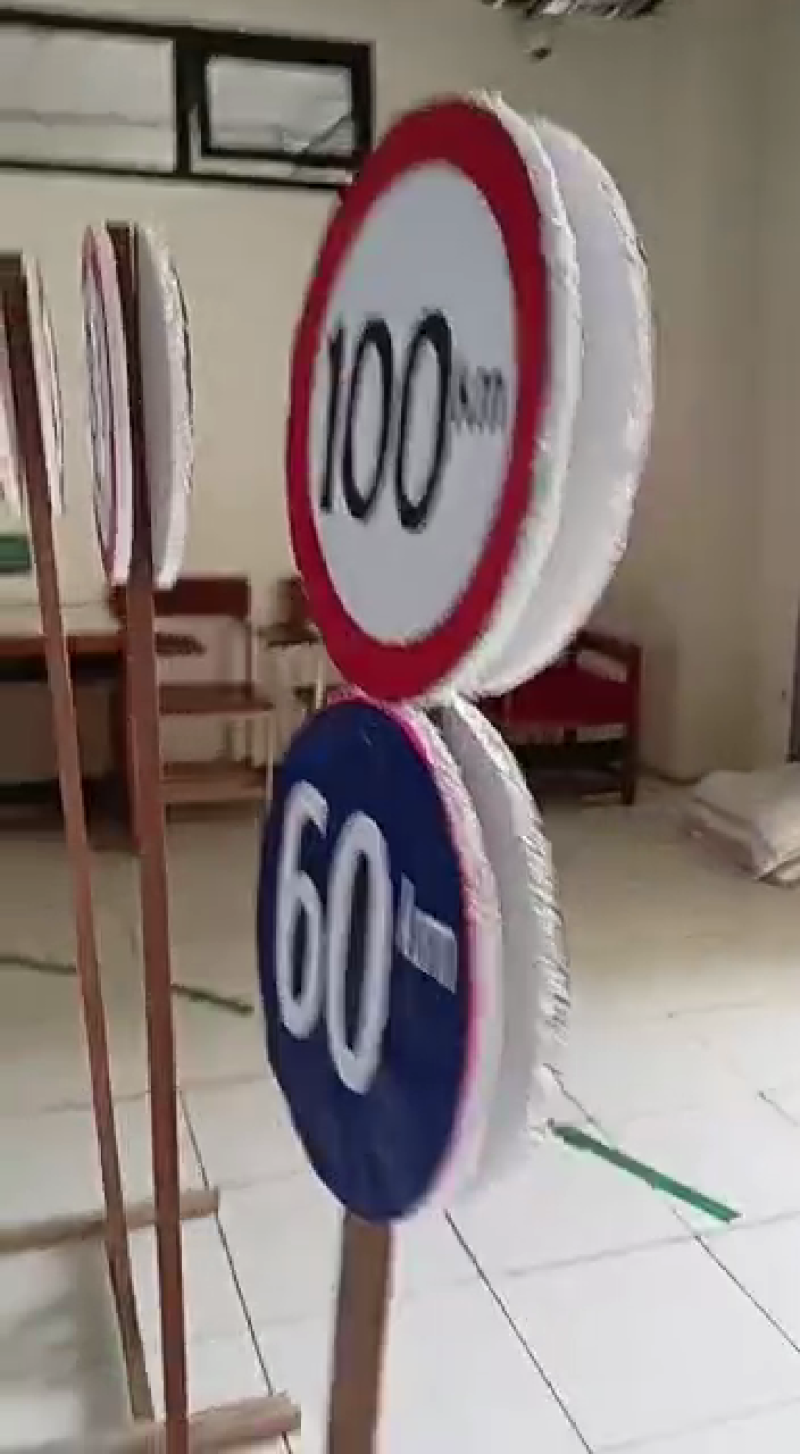batas maksimal 100kmperjam minimal 60kmperjam: (252, 67, 595, 1248)
